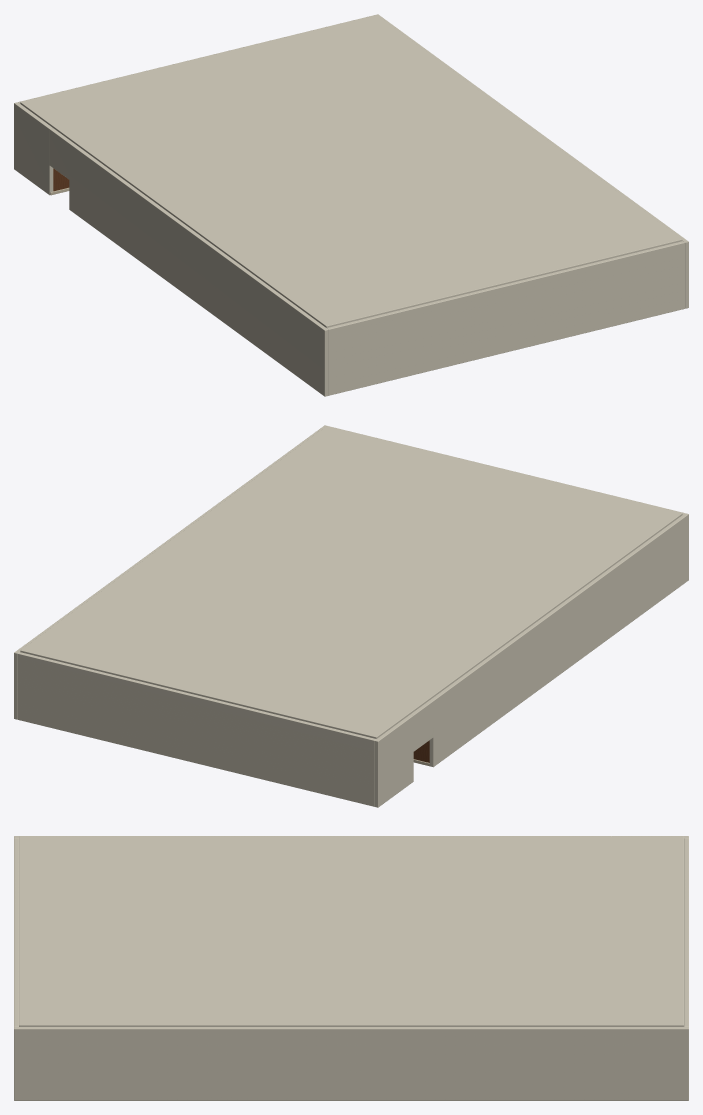
The model's file is WP03_cloud_conservatory.glb.
The picture shows the model from 3 angles, top to bottom: view 1: azimuth 30°, elevation 25°; view 2: azimuth 150°, elevation 25°; view 3: azimuth 270°, elevation 25°; orthographic projection. The views are drawn at different scales.
Parts seen in each view (by area): view 1: WP03_opaque_protected_roof, WP03_south_enclosure, WP03_west_aft_return, WP03_west_forward_return, WP03_east_enclosure, WP03_west_portal_head; view 2: WP03_opaque_protected_roof, WP03_north_enclosure, WP03_west_aft_return, WP03_west_forward_return, WP03_east_enclosure, WP03_west_portal_head; view 3: WP03_opaque_protected_roof, WP03_east_enclosure, WP03_north_enclosure, WP03_south_enclosure, WP03_west_aft_return.
Part boxes in pixels (<box>): WP03_opaque_protected_roof: <box>20,15,682,327</box>; WP03_south_enclosure: <box>327,241,684,395</box>; WP03_west_aft_return: <box>69,142,328,396</box>; WP03_west_forward_return: <box>14,102,53,195</box>; WP03_east_enclosure: <box>374,14,688,308</box>; WP03_west_portal_head: <box>49,128,72,179</box>; WP03_opaque_protected_roof: <box>20,426,682,738</box>; WP03_north_enclosure: <box>18,652,375,806</box>; WP03_west_aft_return: <box>429,513,688,767</box>; WP03_west_forward_return: <box>374,714,413,807</box>; WP03_east_enclosure: <box>14,425,328,719</box>; WP03_west_portal_head: <box>410,700,433,751</box>; WP03_opaque_protected_roof: <box>19,836,683,1026</box>; WP03_east_enclosure: <box>14,1027,688,1100</box>; WP03_north_enclosure: <box>684,838,688,1026</box>; WP03_south_enclosure: <box>14,838,18,1026</box>; WP03_west_aft_return: <box>14,836,568,838</box>.
Bounding box in the file's own units: 46 × 8.2 × 68.
Materials: 41 (37 with a texture image).
